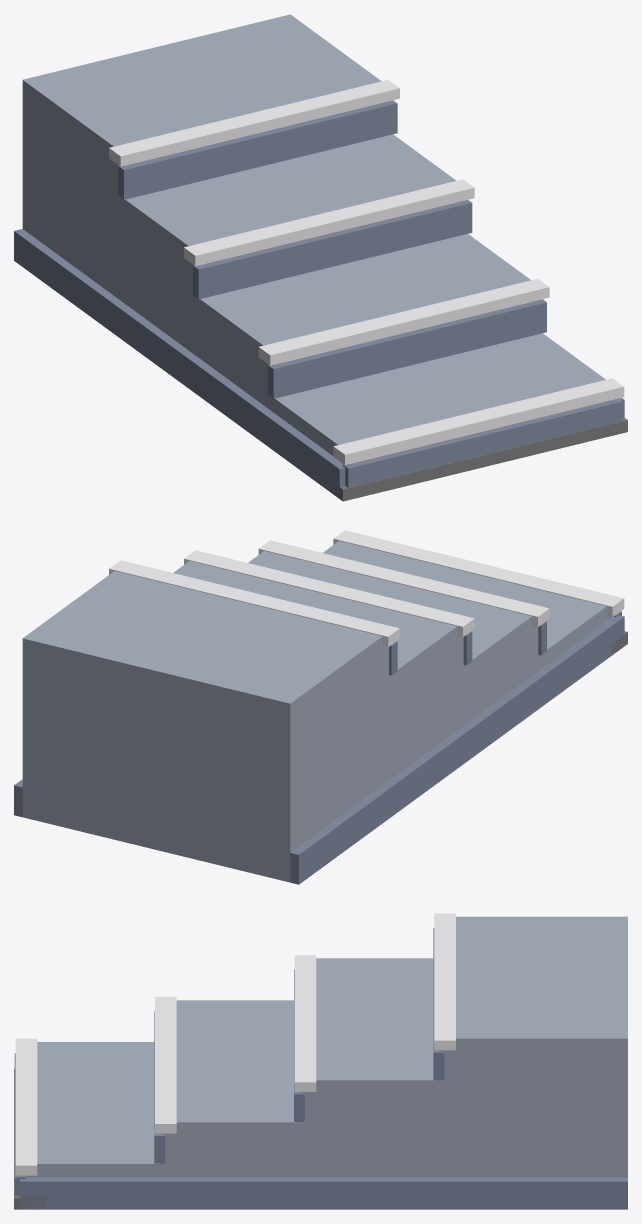
File: stairs.glb
The picture shows the model from 3 angles, top to bottom: view 1: azimuth 30°, elevation 25°; view 2: azimuth 150°, elevation 25°; view 3: azimuth 270°, elevation 25°; orthographic projection. The views are drawn at different scales.
Parts seen in each view (by area): view 1: stairs; view 2: stairs; view 3: stairs.
Part boxes in pixels (x1,y1,x2,y2): stairs: (14, 14, 627, 501); stairs: (14, 530, 627, 884); stairs: (14, 913, 627, 1209).
Bounding box in the file's own units: 1 × 0.6025 × 2.
